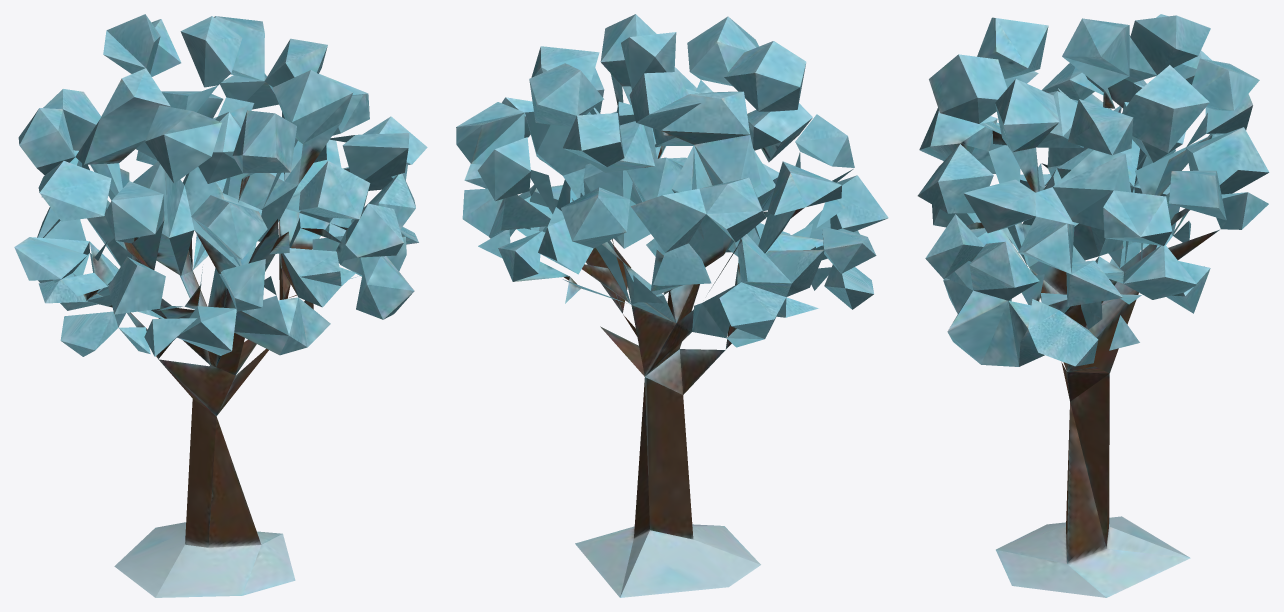
Rendered from e_baum.glb.
3 renders of one model, left to right at view 1: azimuth 30°, elevation 25°; view 2: azimuth 150°, elevation 25°; view 3: azimuth 270°, elevation 25°, orthographic. The views are drawn at different scales.
Bounding box in the file's own units: 1.44 × 1.86 × 1.09.
Materials: 1 (1 with a texture image).
